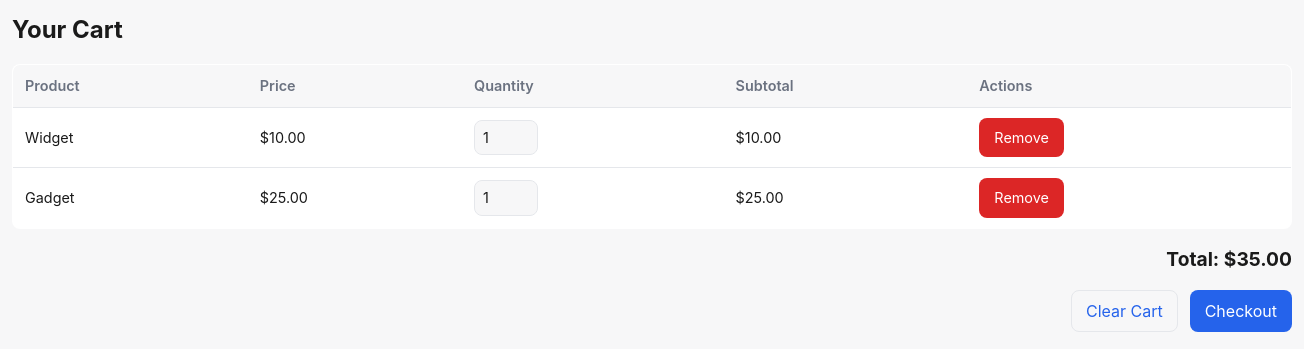
it: Cart › removes an item from the cart
Click the button "Remove" in the row of "Widget". click: (1022, 137)
box: [979,118,1064,157]
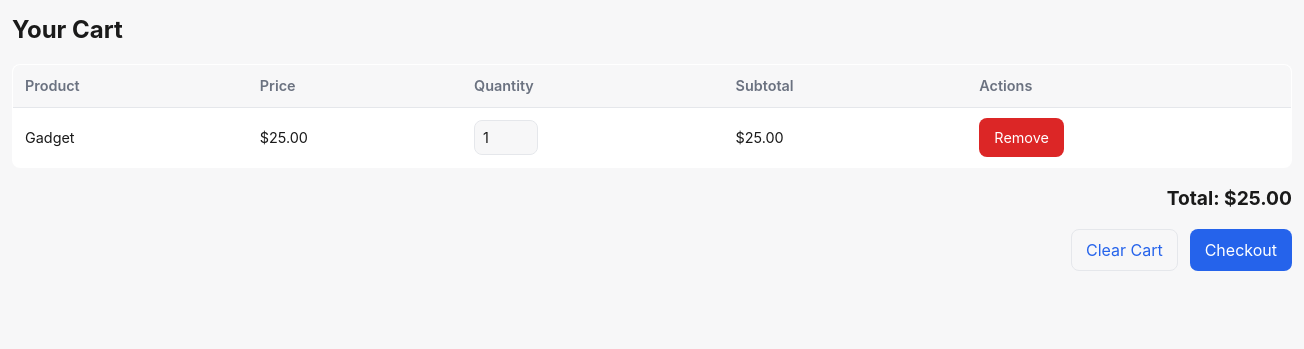
Check: the text "Gadget" is shown, box [12,107,248,168]
Check: the text "Widget" is gone
